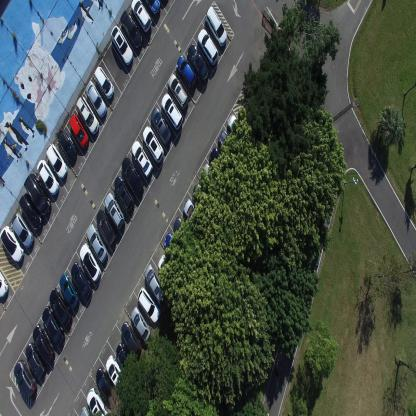car: (23, 172, 51, 216), (204, 5, 228, 49), (110, 24, 134, 66), (41, 305, 64, 348), (13, 358, 37, 399), (121, 154, 144, 196), (144, 264, 167, 306), (18, 192, 42, 232), (49, 287, 72, 328), (76, 95, 99, 135), (120, 10, 143, 50), (36, 158, 60, 196), (79, 242, 101, 283), (187, 42, 209, 83), (0, 226, 24, 263), (85, 79, 107, 119), (86, 223, 108, 263), (32, 324, 54, 364), (142, 125, 164, 164), (131, 139, 153, 178), (103, 192, 125, 231), (160, 93, 183, 130), (150, 107, 171, 147), (70, 262, 92, 300), (58, 272, 80, 310), (45, 143, 68, 179), (11, 212, 34, 248), (96, 208, 117, 247), (130, 305, 151, 344), (113, 175, 135, 212), (138, 286, 160, 323), (196, 29, 218, 66), (25, 342, 46, 380), (121, 319, 141, 358), (167, 73, 188, 110), (209, 146, 230, 182), (68, 112, 89, 148), (105, 355, 126, 391), (95, 368, 116, 404), (57, 127, 78, 162), (176, 54, 197, 89), (218, 130, 238, 166), (93, 65, 114, 99), (130, 0, 152, 32), (227, 113, 247, 148), (86, 387, 111, 415), (164, 233, 183, 266), (172, 216, 191, 249), (116, 342, 134, 376), (200, 163, 218, 195), (183, 198, 201, 227), (192, 182, 210, 210), (158, 253, 174, 283), (142, 0, 161, 17), (0, 269, 8, 298), (78, 405, 93, 415)
